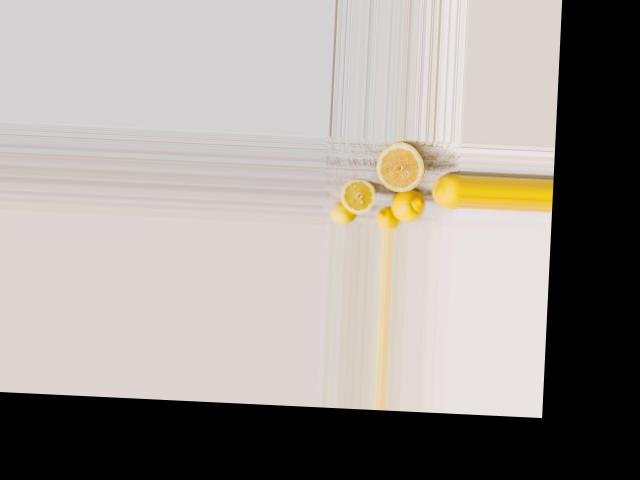lemon: (428, 169, 460, 210)
